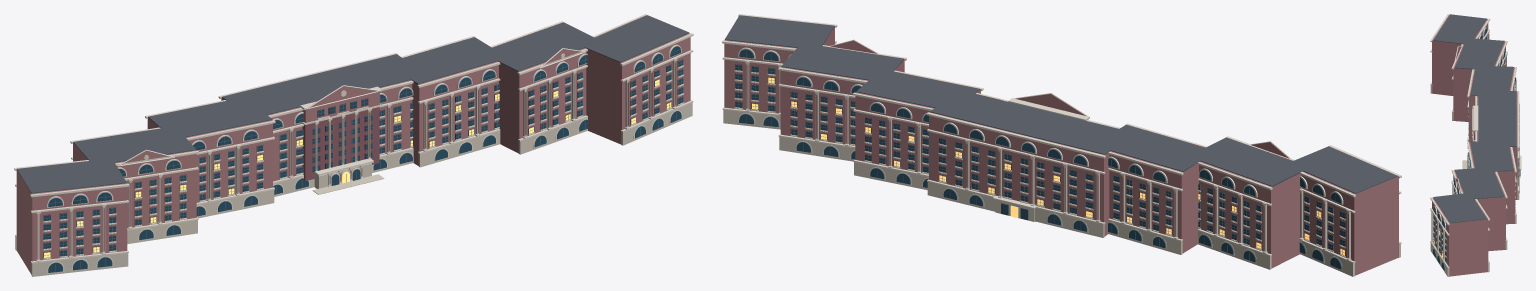
Rendered from main-building.glb.
The picture shows the model from 3 angles, left to right: view 1: azimuth 30°, elevation 25°; view 2: azimuth 150°, elevation 25°; view 3: azimuth 270°, elevation 25°; orthographic projection. The views are drawn at different scales.
Visible parts, largest first — view 1: Batched_Base_Brick_PBR_surface, Batched_Base_Slate_roof, Batched_Base_Carved_stone_PBR_surface, Batched_Base_Blue_dusk_glass, Batched_Base_Limestone_PBR_surface, Batched_Base_Powder-coated_window_frame, Batched_PhotoFacade_Limestone_PBR_surface, Batched_Base_Window_recess_shadow, Batched_Base_Brick_shadow, Batched_PhotoFacade_Carved_stone_PBR_surface, Batched_PhotoFacade_Brick_shadow, Batched_PhotoFacade_Brick_PBR_surface (+1 smaller); view 2: Batched_Base_Brick_PBR_surface, Batched_Base_Slate_roof, Batched_Base_Carved_stone_PBR_surface, Batched_Base_Blue_dusk_glass, Batched_Base_Limestone_PBR_surface, Batched_Base_Powder-coated_window_frame, Batched_Base_Window_recess_shadow, Batched_Base_Brick_shadow, Batched_PhotoFacade_Brick_PBR_surface, Batched_Base_Warm_lit_windows, Batched_PhotoFacade_Carved_stone_PBR_surface; view 3: Batched_Base_Slate_roof, Batched_Base_Brick_PBR_surface, Batched_Base_Carved_stone_PBR_surface, Batched_Base_Blue_dusk_glass, Batched_Base_Limestone_PBR_surface, Batched_PhotoFacade_Carved_stone_PBR_surface, Batched_PhotoFacade_Limestone_PBR_surface, Batched_Base_Powder-coated_window_frame, Batched_Base_Window_recess_shadow, Batched_PhotoFacade_Brick_PBR_surface, Batched_PhotoFacade_Brick_shadow, Batched_Base_Brick_shadow.
Part boxes in pixels (x1,y1,x2,y2): Batched_Base_Brick_PBR_surface: (16, 15, 690, 274); Batched_Base_Slate_roof: (17, 15, 689, 193); Batched_Base_Carved_stone_PBR_surface: (14, 14, 693, 273); Batched_Base_Blue_dusk_glass: (44, 46, 683, 272); Batched_Base_Limestone_PBR_surface: (15, 66, 692, 276); Batched_Base_Powder-coated_window_frame: (43, 49, 682, 271); Batched_PhotoFacade_Limestone_PBR_surface: (37, 61, 675, 259); Batched_Base_Window_recess_shadow: (43, 59, 683, 257); Batched_Base_Brick_shadow: (302, 107, 379, 180); Batched_PhotoFacade_Carved_stone_PBR_surface: (36, 48, 677, 262); Batched_PhotoFacade_Brick_shadow: (70, 62, 675, 254); Batched_PhotoFacade_Brick_PBR_surface: (125, 48, 579, 162); Batched_Base_Brick_PBR_surface: (724, 15, 1398, 275); Batched_Base_Slate_roof: (724, 15, 1397, 193); Batched_Base_Carved_stone_PBR_surface: (722, 14, 1401, 270); Batched_Base_Blue_dusk_glass: (735, 49, 1344, 269); Batched_Base_Limestone_PBR_surface: (723, 63, 1400, 276); Batched_Base_Powder-coated_window_frame: (735, 51, 1345, 266); Batched_Base_Window_recess_shadow: (735, 64, 1345, 256); Batched_Base_Brick_shadow: (746, 65, 1348, 257); Batched_PhotoFacade_Brick_PBR_surface: (831, 40, 1289, 158); Batched_Base_Warm_lit_windows: (752, 77, 1344, 255); Batched_PhotoFacade_Carved_stone_PBR_surface: (830, 39, 1290, 158); Batched_Base_Slate_roof: (1433, 14, 1516, 223); Batched_Base_Brick_PBR_surface: (1432, 14, 1517, 276); Batched_Base_Carved_stone_PBR_surface: (1430, 14, 1521, 271); Batched_Base_Blue_dusk_glass: (1433, 28, 1520, 270); Batched_Base_Limestone_PBR_surface: (1430, 34, 1520, 276); Batched_PhotoFacade_Carved_stone_PBR_surface: (1430, 46, 1478, 261); Batched_PhotoFacade_Limestone_PBR_surface: (1431, 130, 1473, 259); Batched_Base_Powder-coated_window_frame: (1433, 30, 1518, 261); Batched_Base_Window_recess_shadow: (1433, 36, 1518, 262); Batched_PhotoFacade_Brick_PBR_surface: (1455, 46, 1475, 191); Batched_PhotoFacade_Brick_shadow: (1431, 157, 1469, 258); Batched_Base_Brick_shadow: (1474, 34, 1519, 175).
Bounding box in the file's own units: 280 × 39.36 × 51.66.
